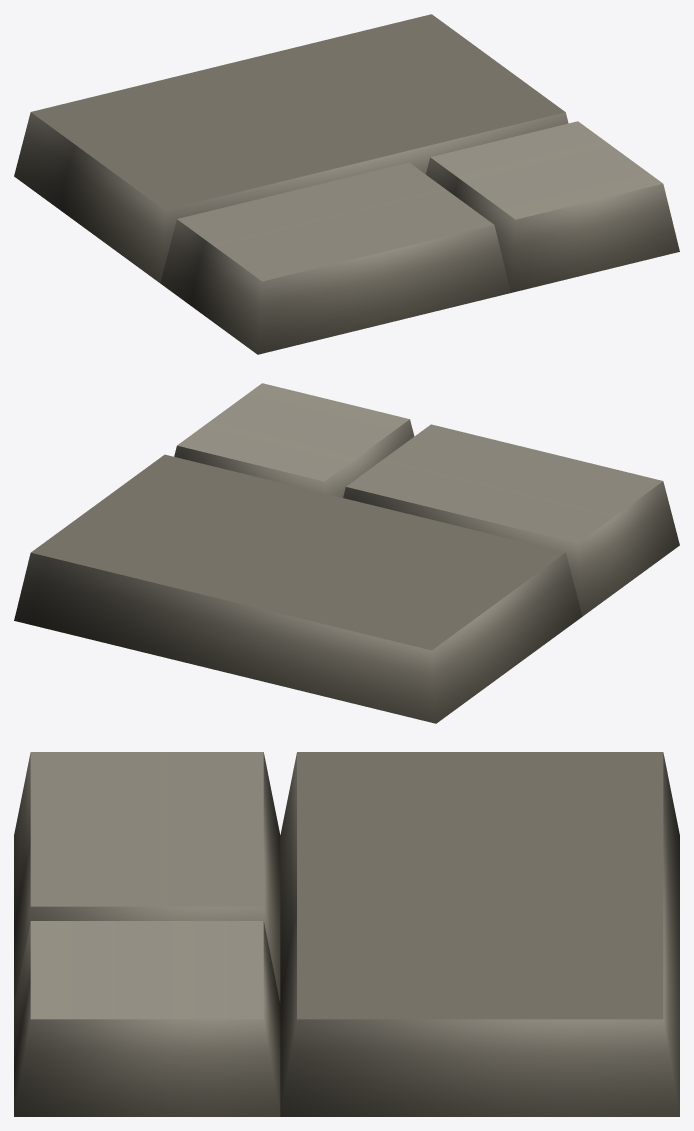
The model's file is Pavement_2J_2X2.fbx.
The picture shows the model from 3 angles, top to bottom: view 1: azimuth 30°, elevation 25°; view 2: azimuth 150°, elevation 25°; view 3: azimuth 270°, elevation 25°; orthographic projection. The views are drawn at different scales.
Visible parts, largest first — view 1: Pavement_2J_2X2; view 2: Pavement_2J_2X2; view 3: Pavement_2J_2X2.
Part boxes in pixels (<box>): Pavement_2J_2X2: <box>14,14,679,354</box>; Pavement_2J_2X2: <box>14,383,679,723</box>; Pavement_2J_2X2: <box>14,752,679,1116</box>.
Bounding box in the file's own units: 200 × 30 × 200.
